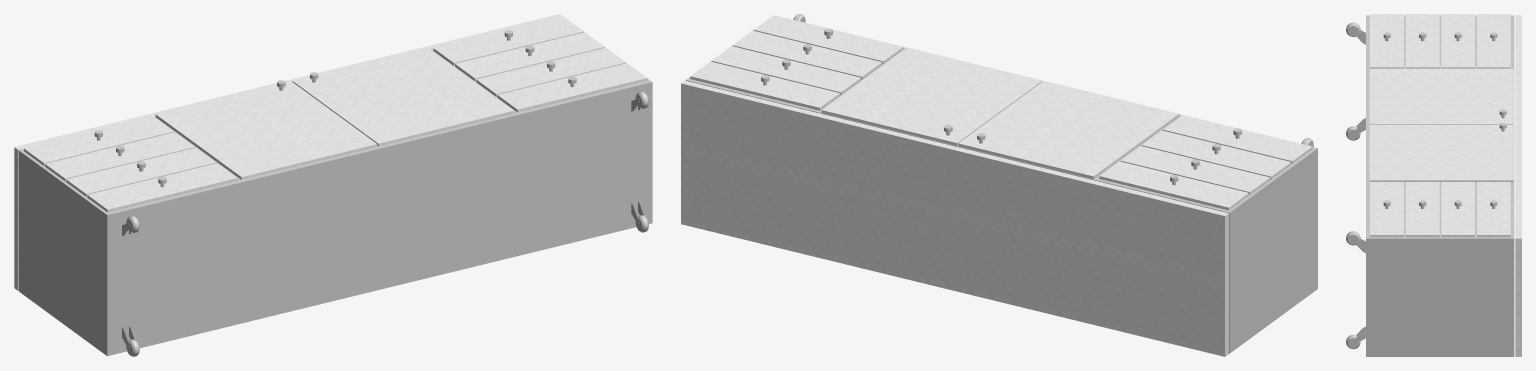
The model's file is wardrobe.FBX.
3 views of the same model, side by side, from view 1: azimuth 30°, elevation 25°; view 2: azimuth 150°, elevation 25°; view 3: azimuth 270°, elevation 25° (orthographic). The views are drawn at different scales.
Visible parts, largest first — view 1: Box015, Box017, ChamferCyl001; view 2: Box017, Box015; view 3: Box017, Box015, ChamferCyl001, Plane020, Cylinder014, Cylinder007.
Boxes of the visible parts, <box> form: Box015: <box>19,47,652,356</box>; Box017: <box>14,14,647,290</box>; ChamferCyl001: <box>126,91,648,356</box>; Box017: <box>681,15,1312,356</box>; Box015: <box>685,46,1317,353</box>; Box017: <box>1369,14,1521,356</box>; Box015: <box>1366,15,1514,356</box>; ChamferCyl001: <box>1346,22,1360,349</box>; Plane020: <box>1352,29,1365,344</box>; Cylinder014: <box>1383,32,1497,41</box>; Cylinder007: <box>1383,200,1497,208</box>.
Size of the model in its own units: 175 by 46.57 by 58.24.
Materials: 1 (1 with a texture image).
